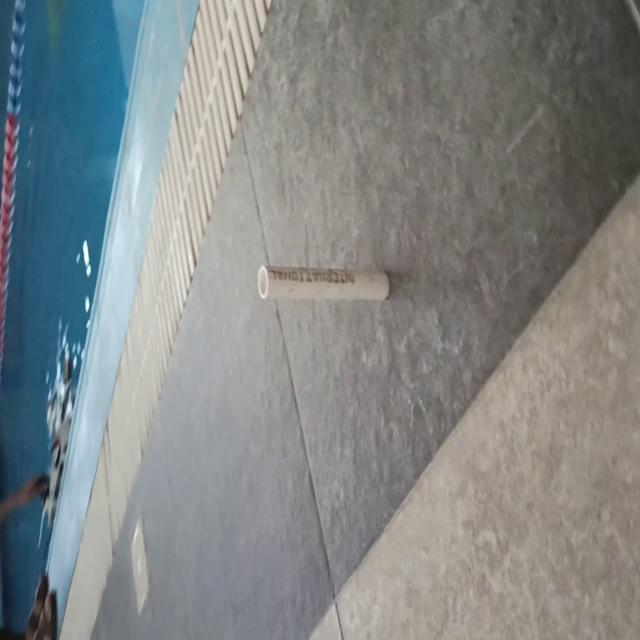Cube: (256, 262, 390, 303)
